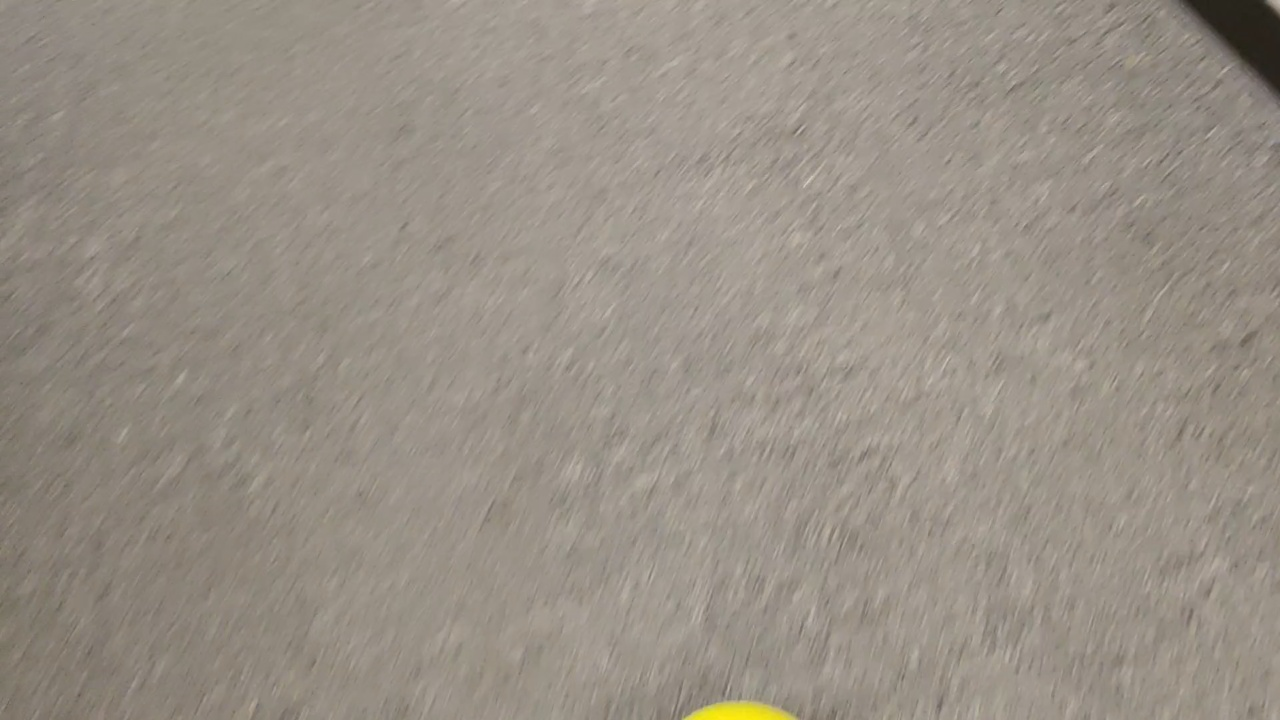Ball: (680, 700, 798, 720)
